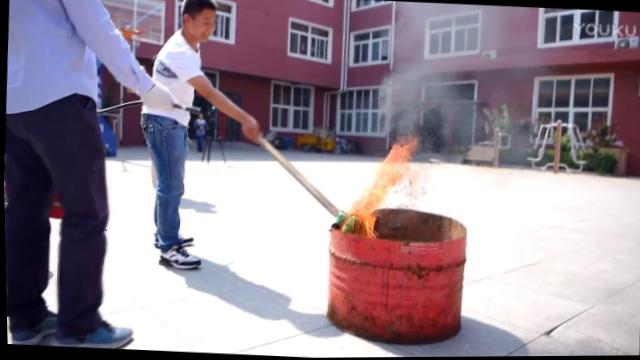fire: (378, 144, 408, 185), (353, 202, 377, 236), (363, 181, 389, 205)
